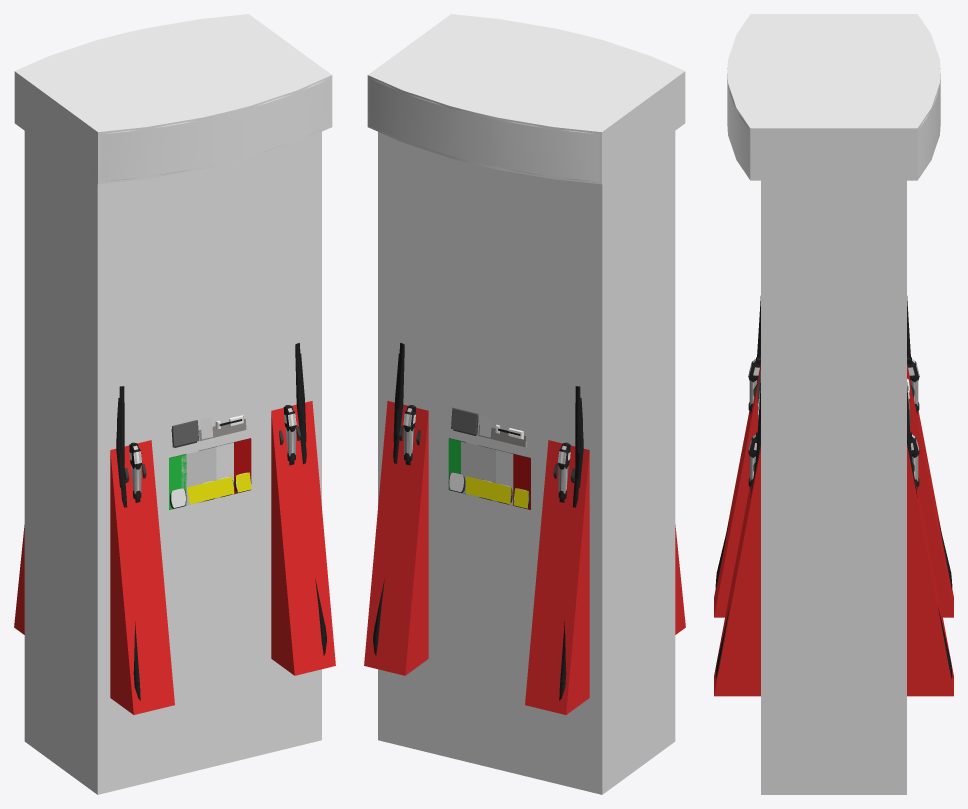
File: s_fuel_pump_2015.dae
3 views of the same model, side by side, from view 1: azimuth 30°, elevation 25°; view 2: azimuth 150°, elevation 25°; view 3: azimuth 270°, elevation 25° (orthographic).
Visible parts, largest first — view 1: Colmesh_s_fuel_pump_2015-1, s_fuel_pump_2015_L800, s_fuel_pump_2015_L400, s_fuel_pump_2015_L80, s_fuel_pump_2015_L30; view 2: Colmesh_s_fuel_pump_2015-1, s_fuel_pump_2015_L800, s_fuel_pump_2015_L400, s_fuel_pump_2015_L80, s_fuel_pump_2015_L30; view 3: Colmesh_s_fuel_pump_2015-1, s_fuel_pump_2015_L800, s_fuel_pump_2015_L400, s_fuel_pump_2015_L80.
Boxes of the visible parts, x1,y1,x2,y2 form: Colmesh_s_fuel_pump_2015-1: [14, 14, 335, 794]; s_fuel_pump_2015_L800: [16, 18, 330, 700]; s_fuel_pump_2015_L400: [14, 14, 332, 679]; s_fuel_pump_2015_L80: [117, 402, 326, 685]; s_fuel_pump_2015_L30: [181, 444, 233, 505]; Colmesh_s_fuel_pump_2015-1: [364, 14, 685, 794]; s_fuel_pump_2015_L800: [369, 17, 683, 700]; s_fuel_pump_2015_L400: [367, 14, 685, 679]; s_fuel_pump_2015_L80: [373, 402, 582, 685]; s_fuel_pump_2015_L30: [461, 441, 507, 503]; Colmesh_s_fuel_pump_2015-1: [714, 14, 953, 794]; s_fuel_pump_2015_L800: [715, 27, 952, 678]; s_fuel_pump_2015_L400: [717, 14, 950, 713]; s_fuel_pump_2015_L80: [716, 357, 951, 665].
Bounding box in the file's own units: 0.94 × 0.8328 × 2.56.
